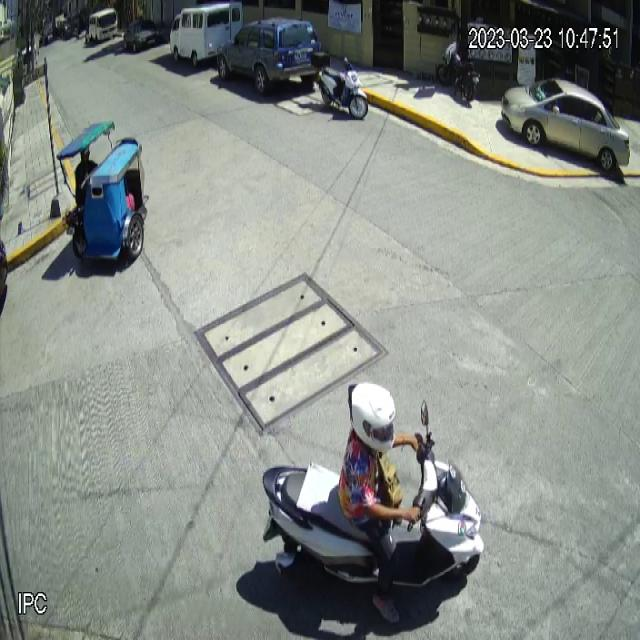Car: (501, 76, 630, 170), (217, 16, 322, 95)
Motorcycle: (260, 397, 486, 593), (311, 51, 368, 120)
Tricycle: (56, 119, 150, 263)
Van: (170, 0, 244, 66)
